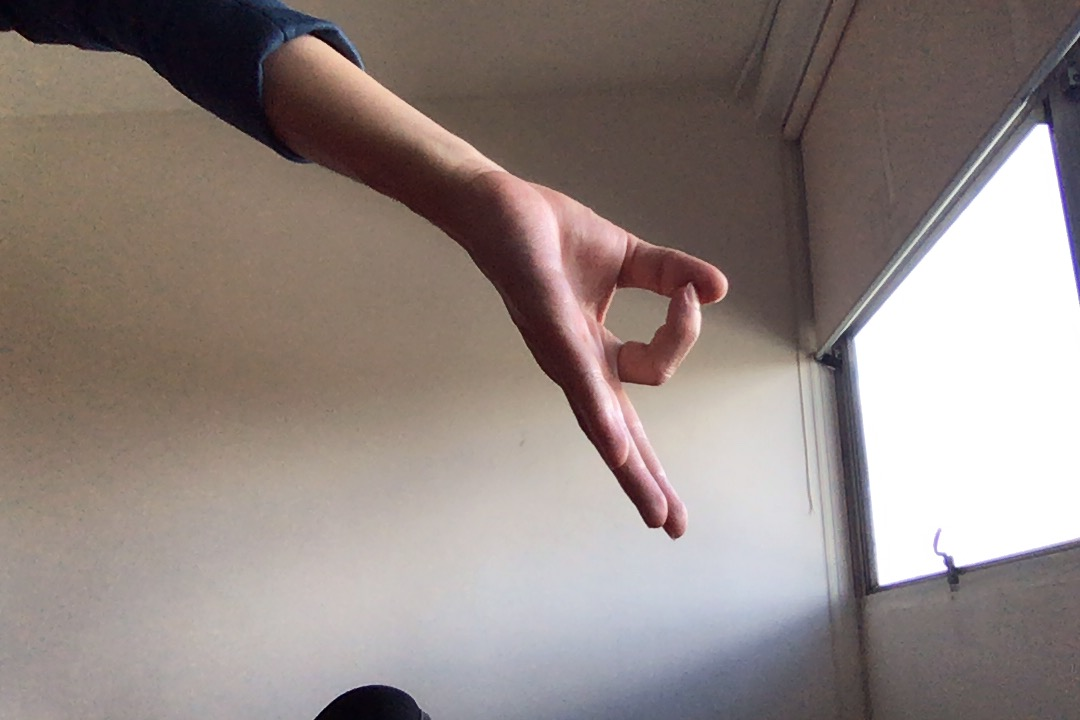oksign: (494, 158, 734, 551)
